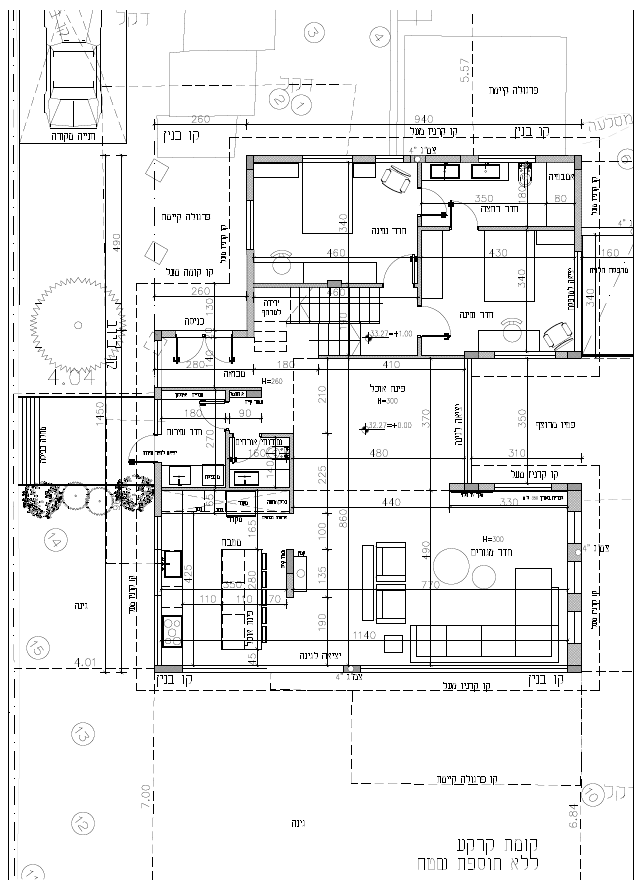window: (495, 482, 555, 497), (494, 350, 555, 363), (472, 152, 538, 164), (300, 154, 359, 164), (244, 201, 252, 251), (374, 154, 401, 164)
